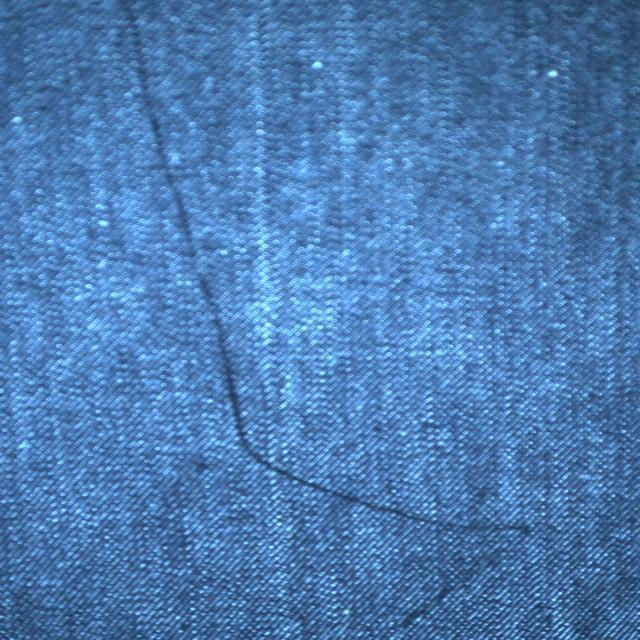defect: (116, 0, 535, 640)
